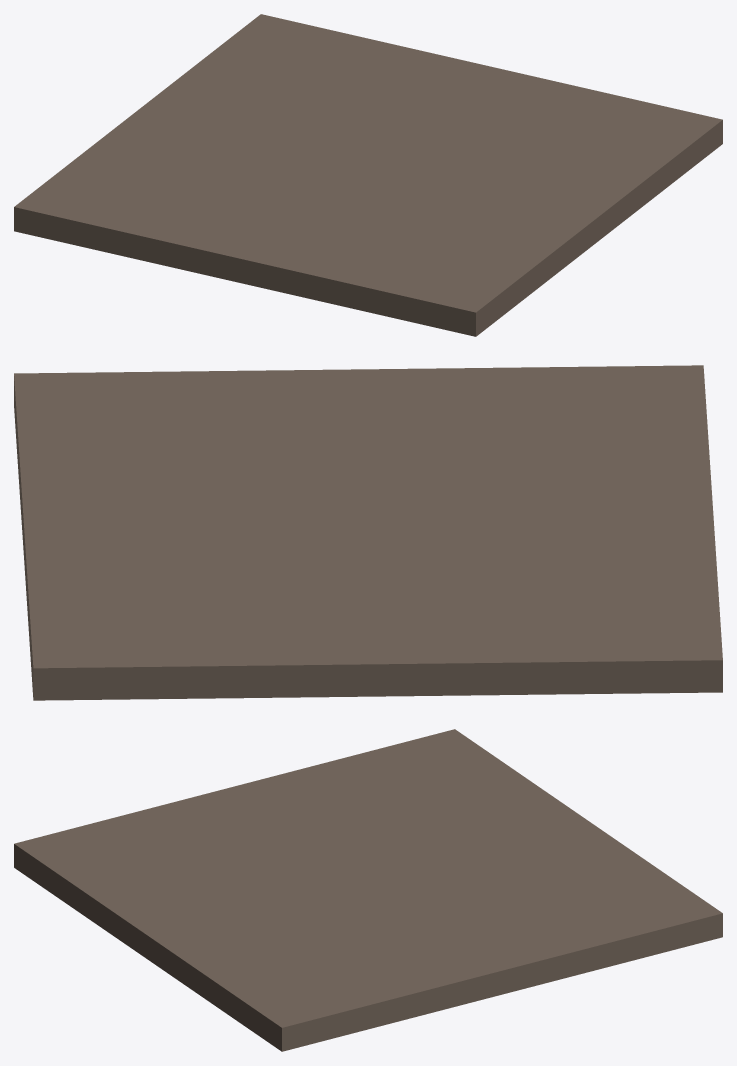
File: O_enviroment_WoodenCrateLid_BigOpen1.fbx
The picture shows the model from 3 angles, top to bottom: view 1: azimuth 30°, elevation 25°; view 2: azimuth 150°, elevation 25°; view 3: azimuth 270°, elevation 25°; orthographic projection. The views are drawn at different scales.
Parts seen in each view (by area): view 1: pCube7; view 2: pCube7; view 3: pCube7.
Part boxes in pixels (box(x1,y1,x2,y2)): pCube7: box(14, 14, 722, 336); pCube7: box(14, 365, 722, 700); pCube7: box(14, 729, 722, 1051).
Bounding box in the file's own units: 4.25 × 0.159 × 4.27.
